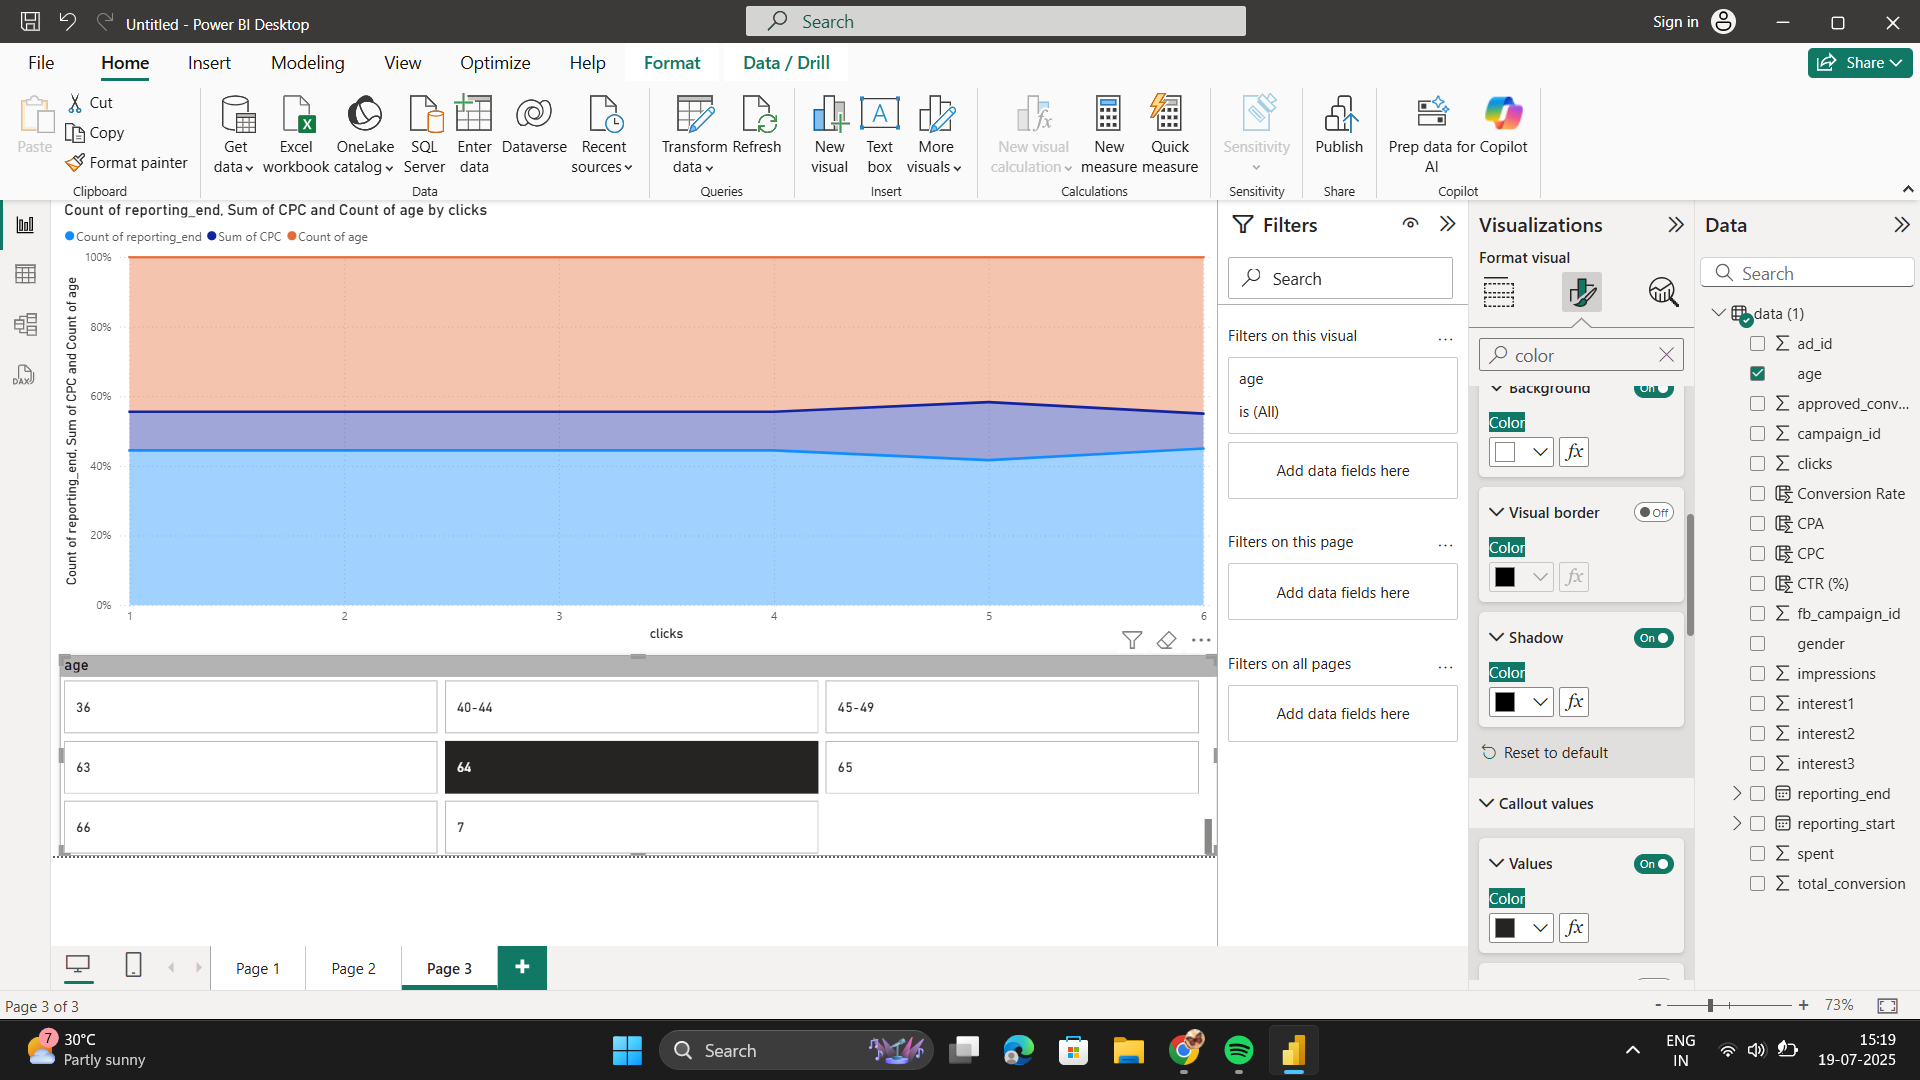

This screenshot's page, from the dashboard's own definition file:
{"tool":"powerbi","page":{"name":"Page 3","canvas":[1280,720],"ordinal":2},"visuals":[{"type":"hundredPercentStackedAreaChart","fields":{"Category":["data (1).clicks"],"Y":["CountNonNull(data (1).reporting_end)","Sum(data (1).CPC)","CountNonNull(data (1).age)"]},"box":[9.6,0,1270.7,488.5],"z":0},{"type":"advancedSlicerVisual","fields":{"Values":["data (1).age"]},"box":[10,499,1270,221],"z":1}]}

Visuals, with their boxes on the page's 1280x720 design canvas (x1, y1, x2, y2). These are canvas units, not pixel positions in the 1920x1080 screenshot, which may show the page scaled, cropped or inside an application window:
hundredPercentStackedAreaChart - data (1).clicks x CountNonNull(data (1).reporting_end): crop(10, 0, 1280, 488)
advancedSlicerVisual - data (1).age: crop(10, 499, 1280, 720)
